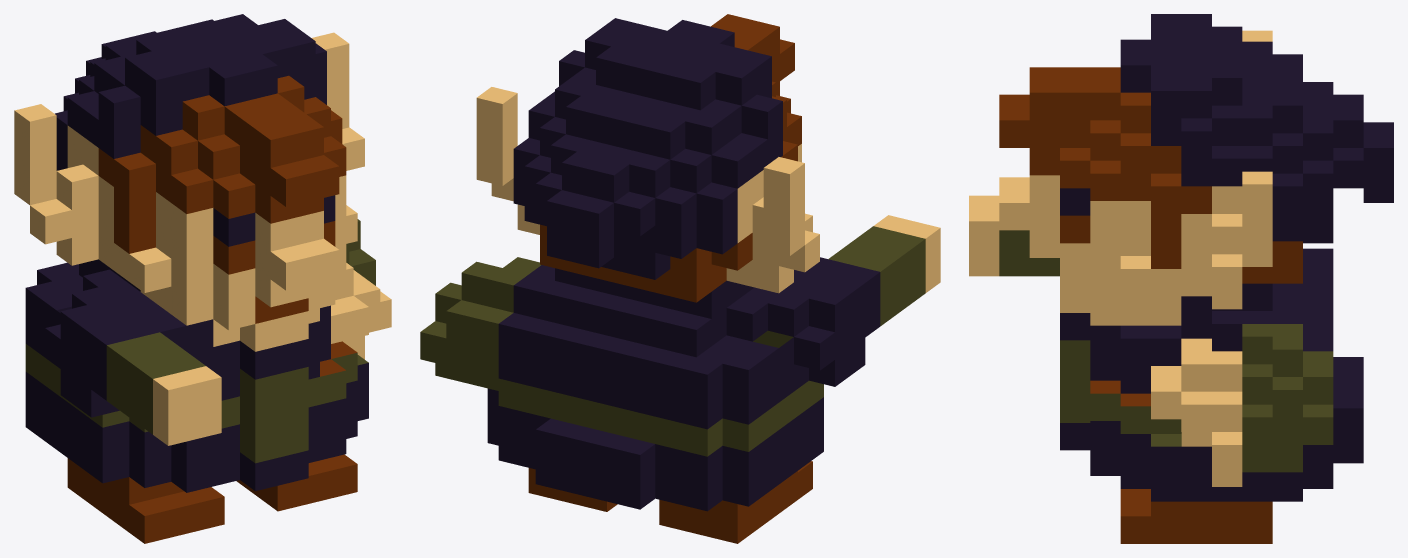
The model's file is NotLink.fbx.
The picture shows the model from 3 angles, left to right: view 1: azimuth 30°, elevation 25°; view 2: azimuth 150°, elevation 25°; view 3: azimuth 270°, elevation 25°; orthographic projection. The views are drawn at different scales.
Parts seen in each view (by area): view 1: Mesh136 Component_2_31 Model; view 2: Mesh136 Component_2_31 Model; view 3: Mesh136 Component_2_31 Model.
Part boxes in pixels (<box>): Mesh136 Component_2_31 Model: <box>14,14,391,543</box>; Mesh136 Component_2_31 Model: <box>420,14,940,543</box>; Mesh136 Component_2_31 Model: <box>969,14,1393,543</box>.
Size of the model in its own units: 162 by 200 by 175.
